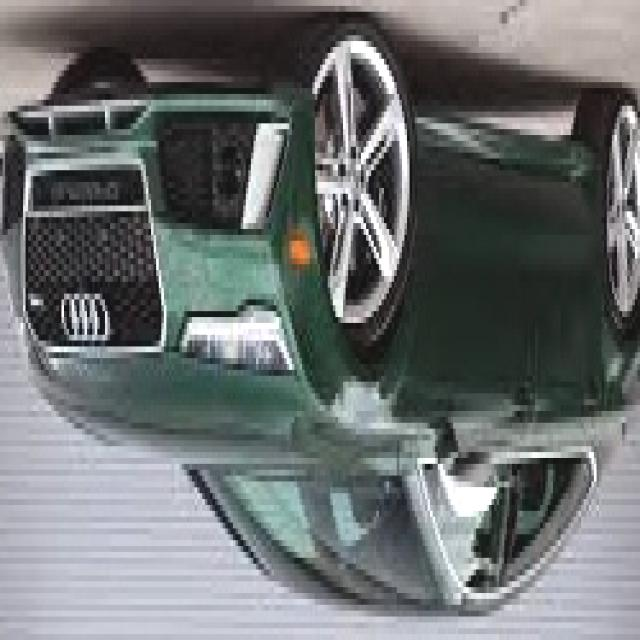green: (0, 19, 640, 619)
